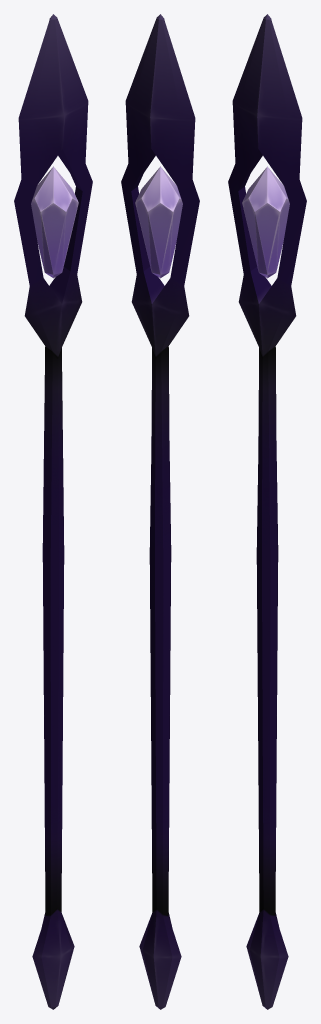
Rendered from lightning_staff_MSH.fbx.
3 renders of one model, left to right at view 1: azimuth 30°, elevation 25°; view 2: azimuth 150°, elevation 25°; view 3: azimuth 330°, elevation 25°, orthographic.
Parts seen in each view (by area): view 1: lightning_staff; view 2: lightning_staff; view 3: lightning_staff.
Boxes of the visible parts, bbox=[...] form: lightning_staff: bbox=[14, 14, 92, 1009]; lightning_staff: bbox=[121, 14, 199, 1009]; lightning_staff: bbox=[228, 14, 306, 1009].
Bounding box in the file's own units: 0.1495 × 1.8 × 0.0833.
